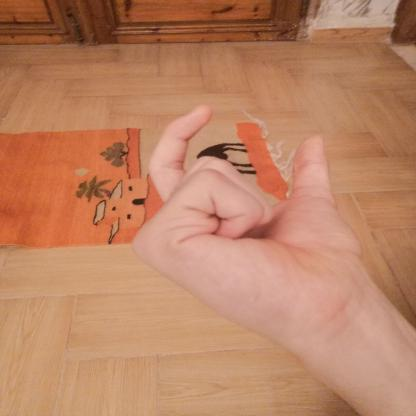NOON: (111, 94, 392, 362)
